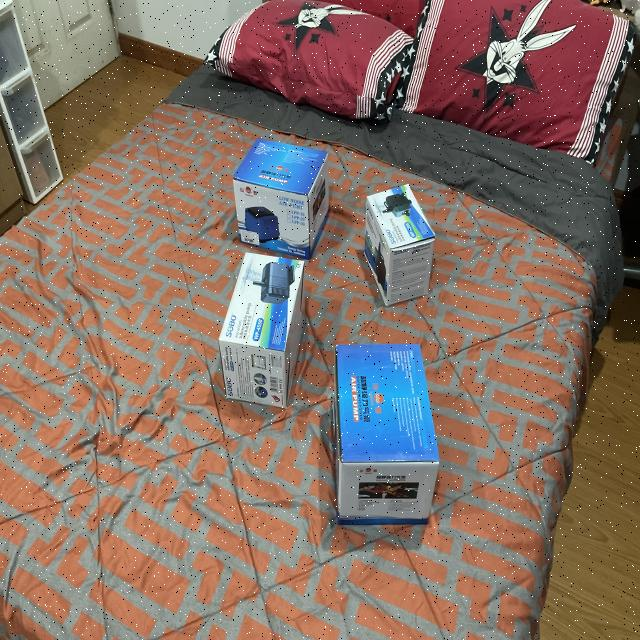SOBO_WP_4200: (212, 247, 312, 419), (356, 175, 438, 318)
YAMANO_LPP_20: (320, 326, 450, 534), (228, 106, 340, 269)
